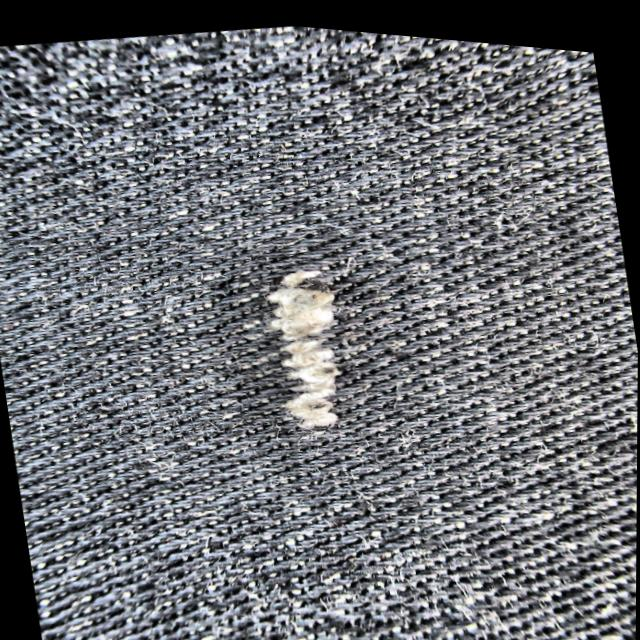Hole: (260, 262, 342, 431)
